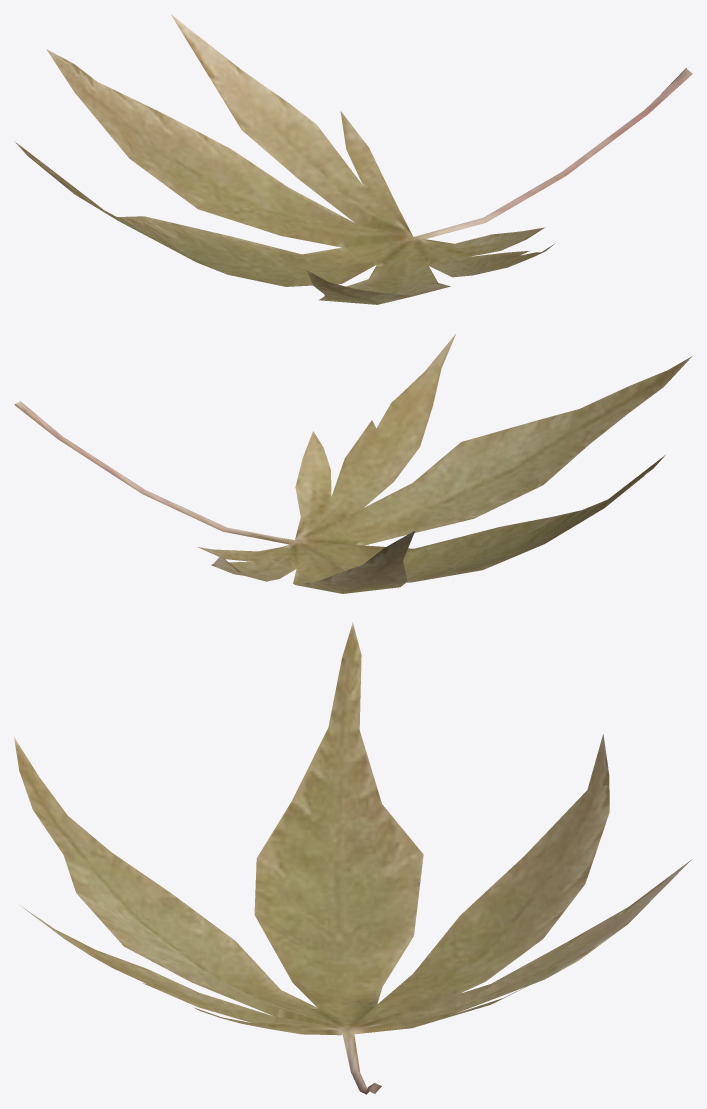
The picture shows the model from 3 angles, top to bottom: view 1: azimuth 30°, elevation 25°; view 2: azimuth 150°, elevation 25°; view 3: azimuth 270°, elevation 25°; orthographic projection. The views are drawn at different scales.
Parts seen in each view (by area): view 1: Fallen Maple Leaf.Shape; view 2: Fallen Maple Leaf.Shape; view 3: Fallen Maple Leaf.Shape.
Boxes of the visible parts, x1,y1,x2,y2 form: Fallen Maple Leaf.Shape: [15, 14, 692, 304]; Fallen Maple Leaf.Shape: [14, 334, 692, 593]; Fallen Maple Leaf.Shape: [14, 622, 691, 1094].
Size of the model in its own units: 0.125 by 0.0348 by 0.1014.
1 material, 1 textured.
